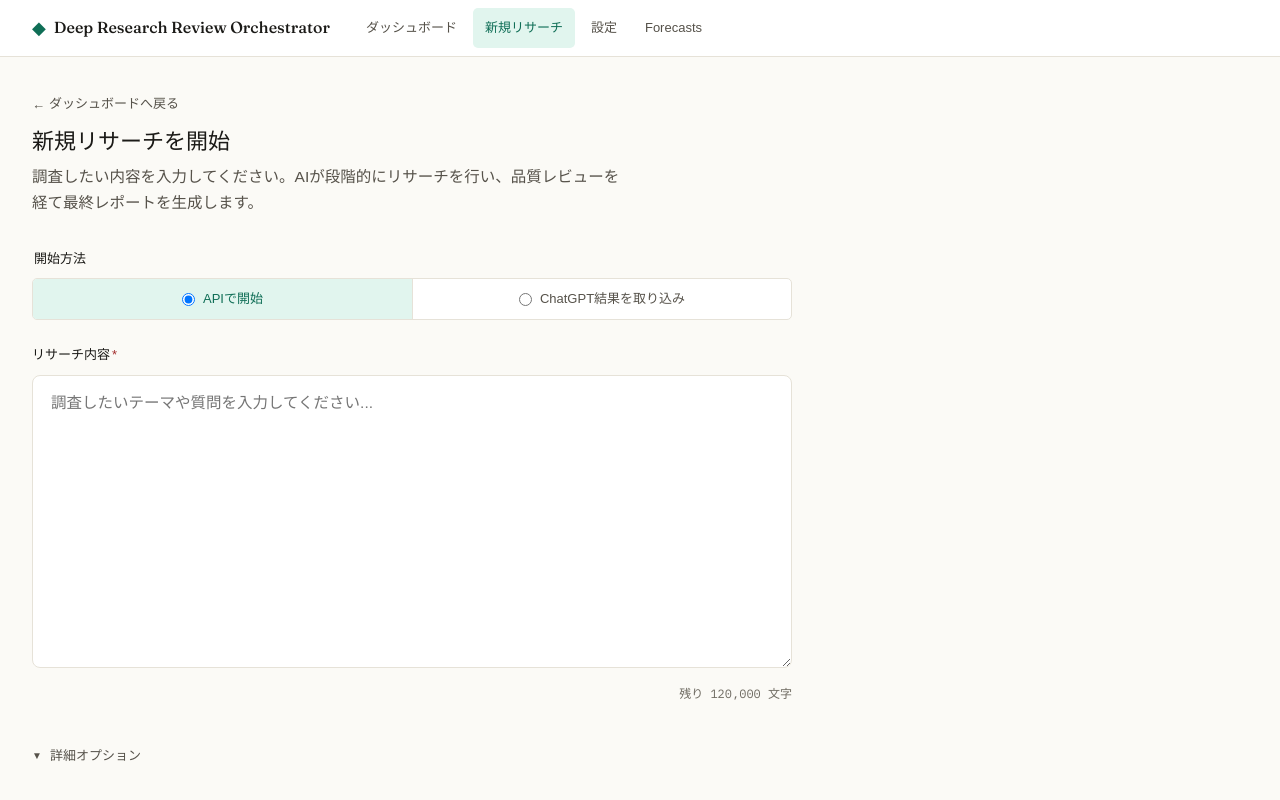
Test: NewResearch (SCR-1) › submits manual import as FormData without setting Content-Type and tracks the monitor run
Click the radio button labelled "ChatGPT結果を取り込み": (525, 300) [519, 293, 532, 306]
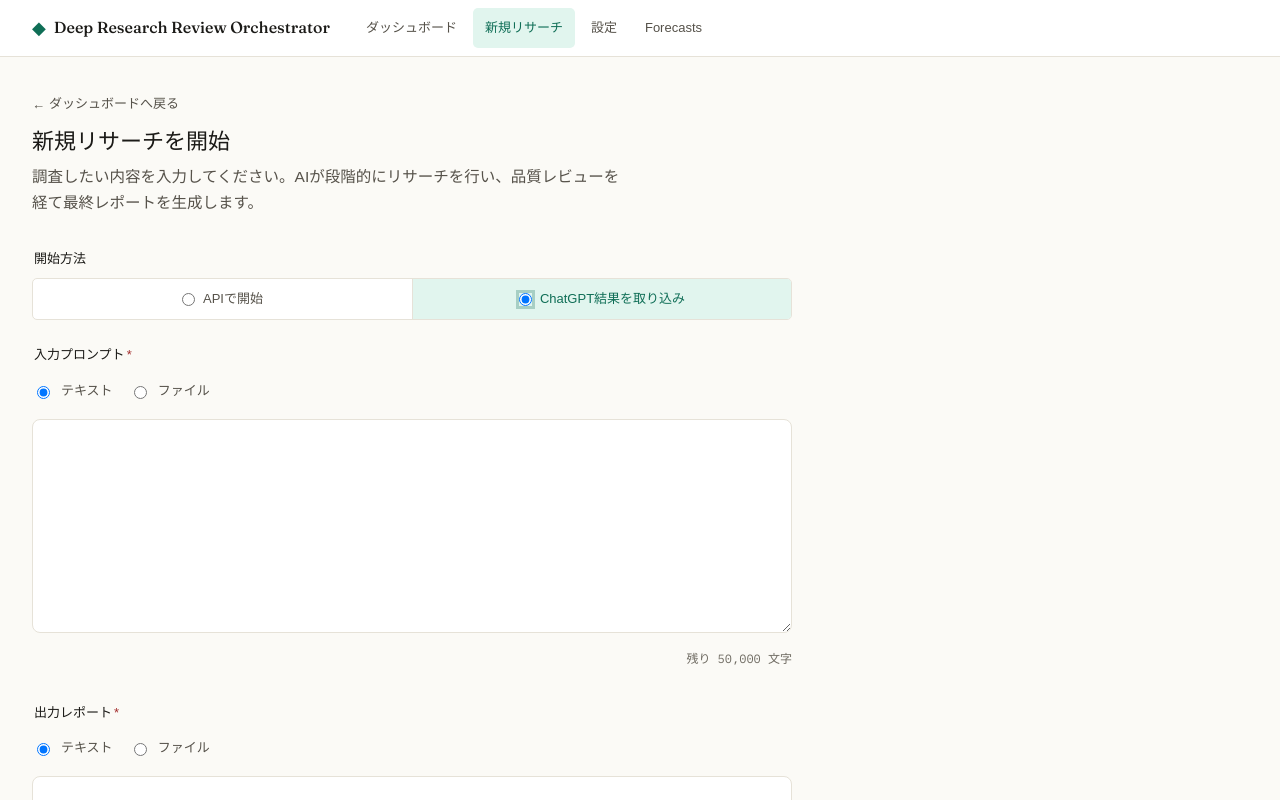
In the text box named "入力プロンプト": (412, 526) [32, 419, 792, 633], type "手動実行したプロンプト"
(page scrolled)
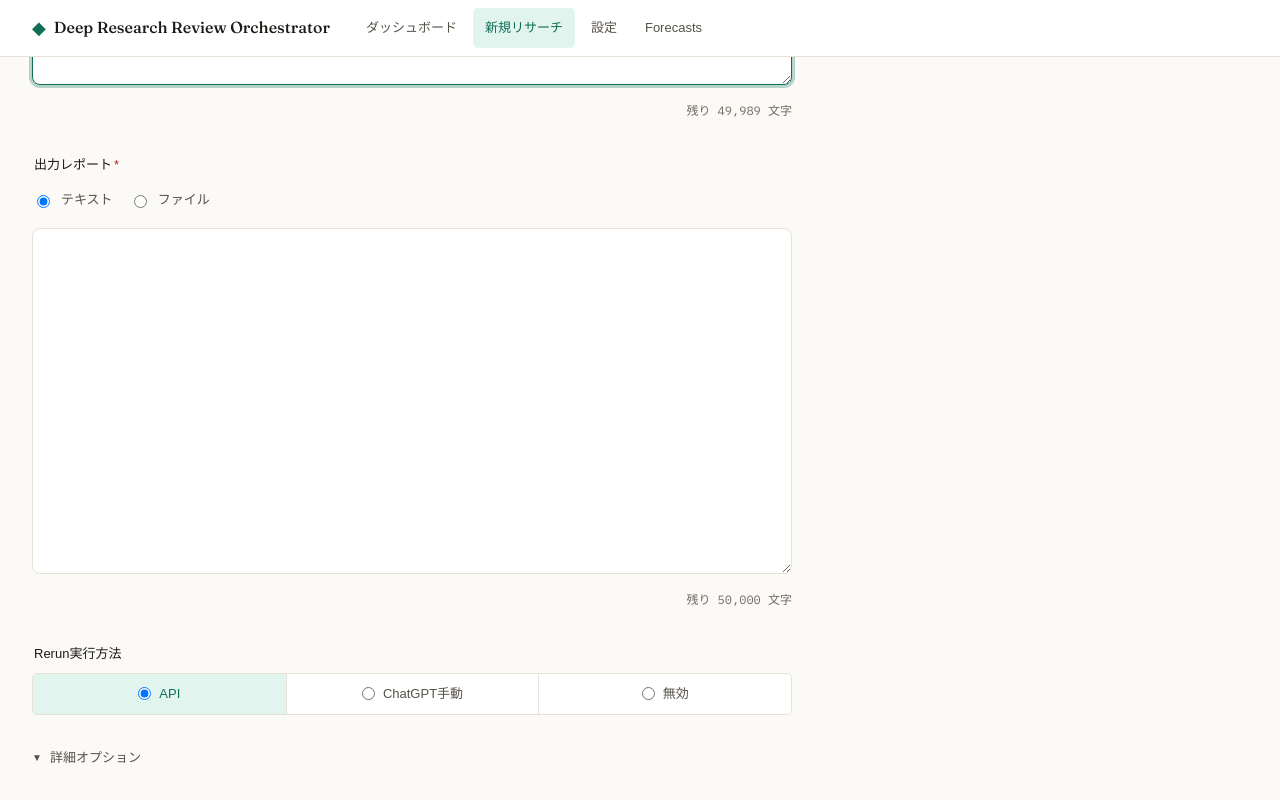
In the text box named "出力レポート": (412, 401) [32, 228, 792, 574], type "手動実行したレポート"
(page scrolled)
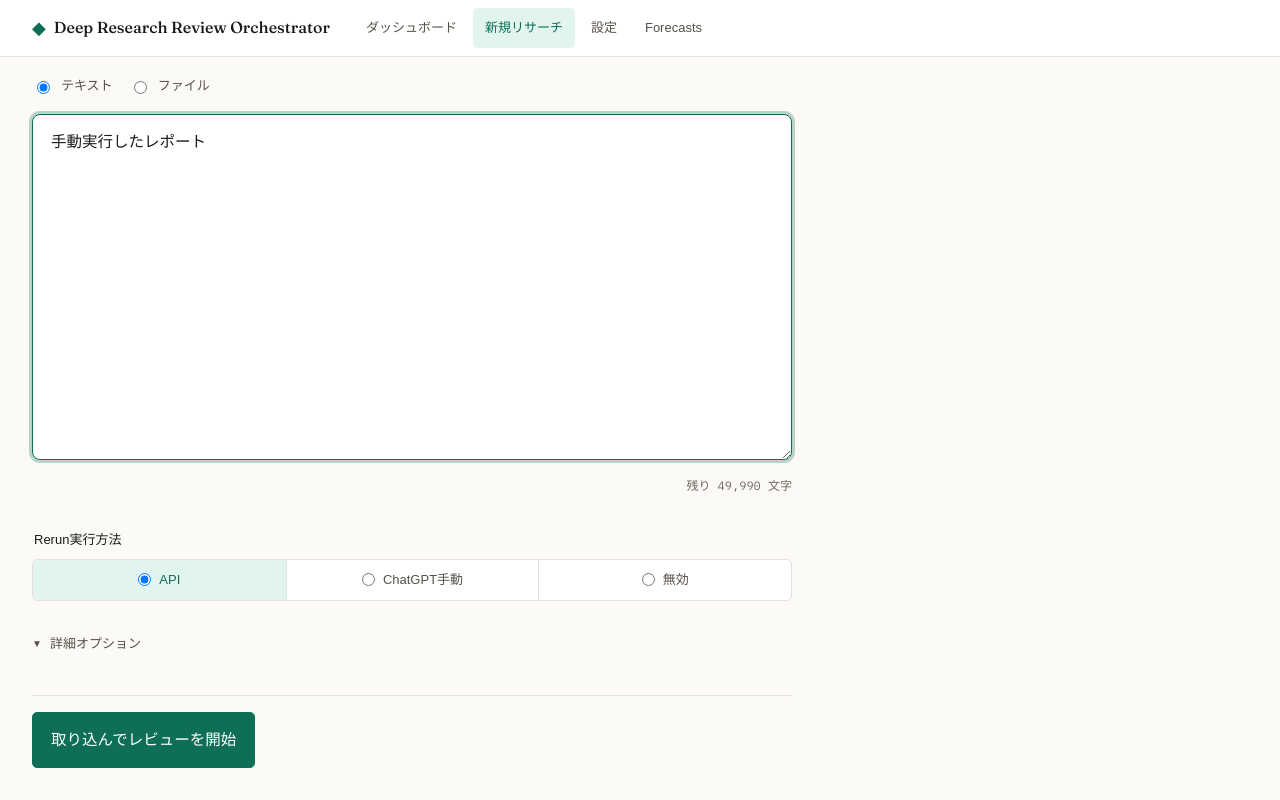
Click the button "取り込んでレビューを開始": (144, 740) [32, 712, 255, 768]
(page scrolled)
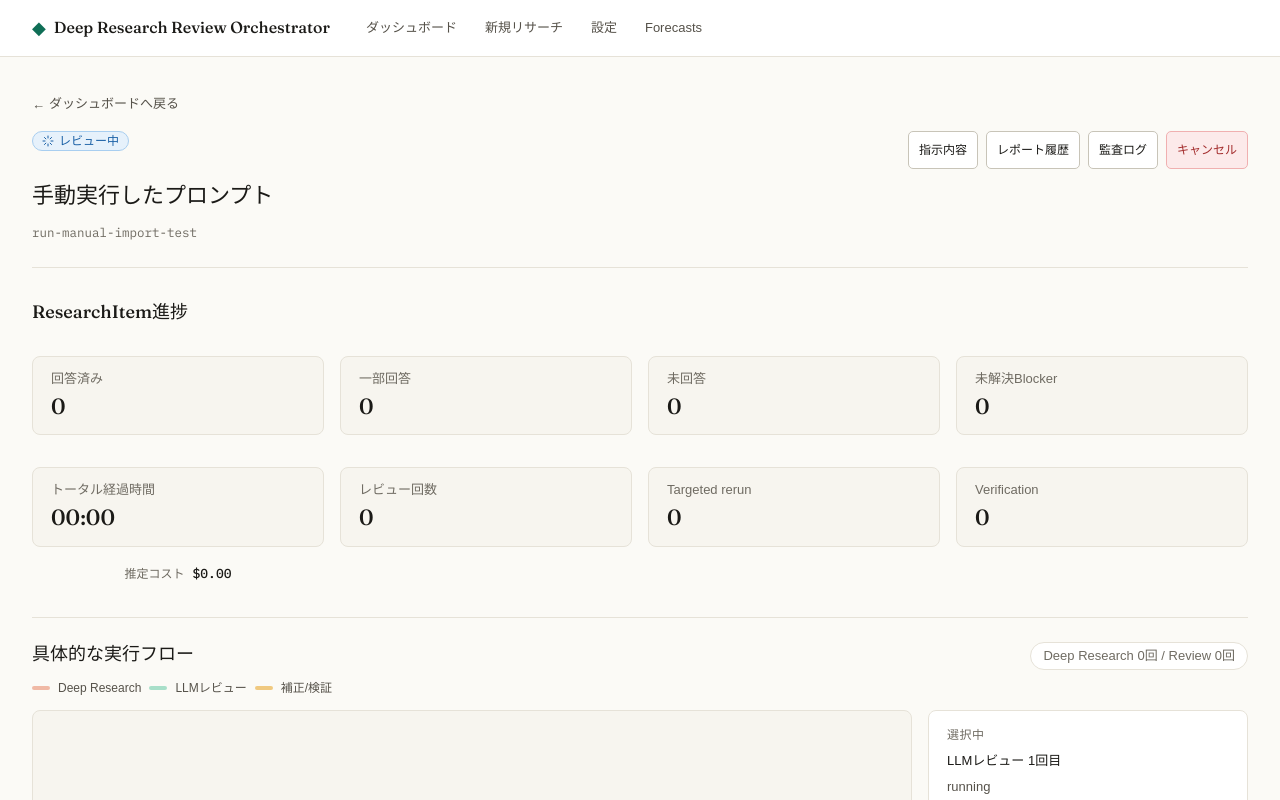
expect the heading "手動実行したプロンプト" is shown: met, box [32, 182, 273, 210]
